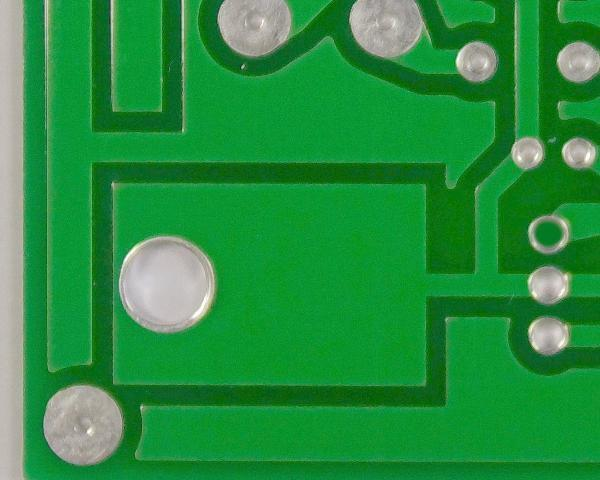missing hole: (521, 211, 579, 261)
